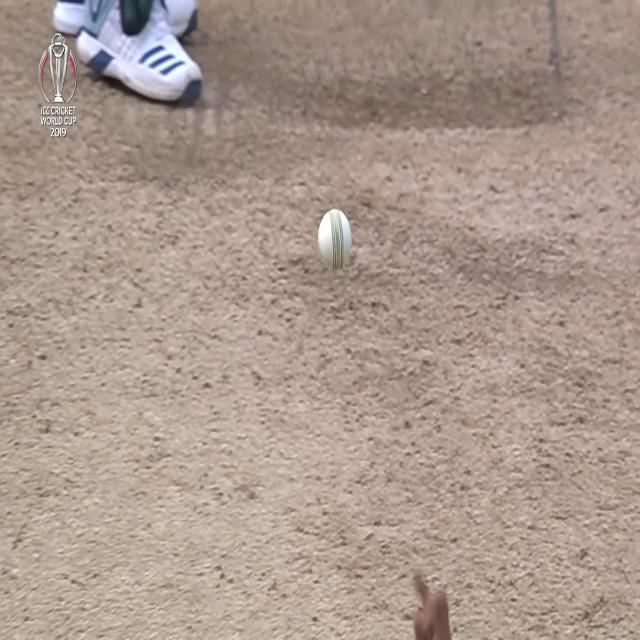Cricket ball: (317, 206, 353, 274)
